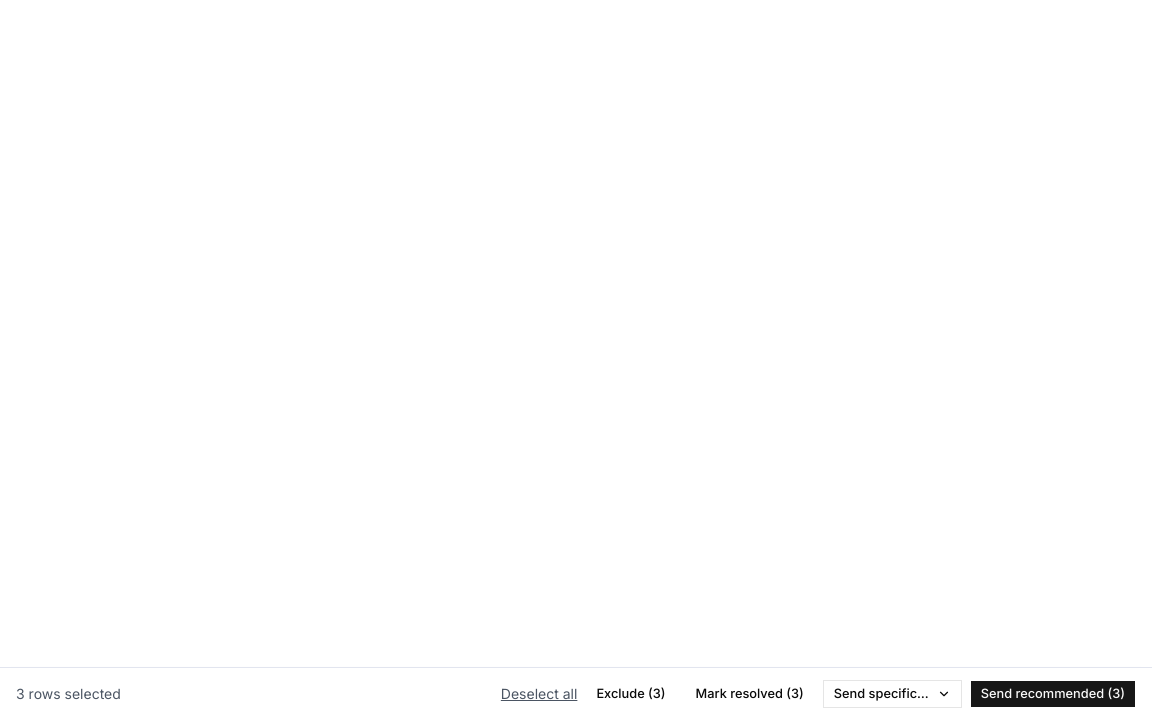
it: BulkActionToolbar › clicking Send recommended opens confirmation dialog with rollup + skipped
The width and height of the screenshot is (1152, 720).
Click the button with aria-label "Send recommended 3": (1053, 694) [970,680,1136,708]
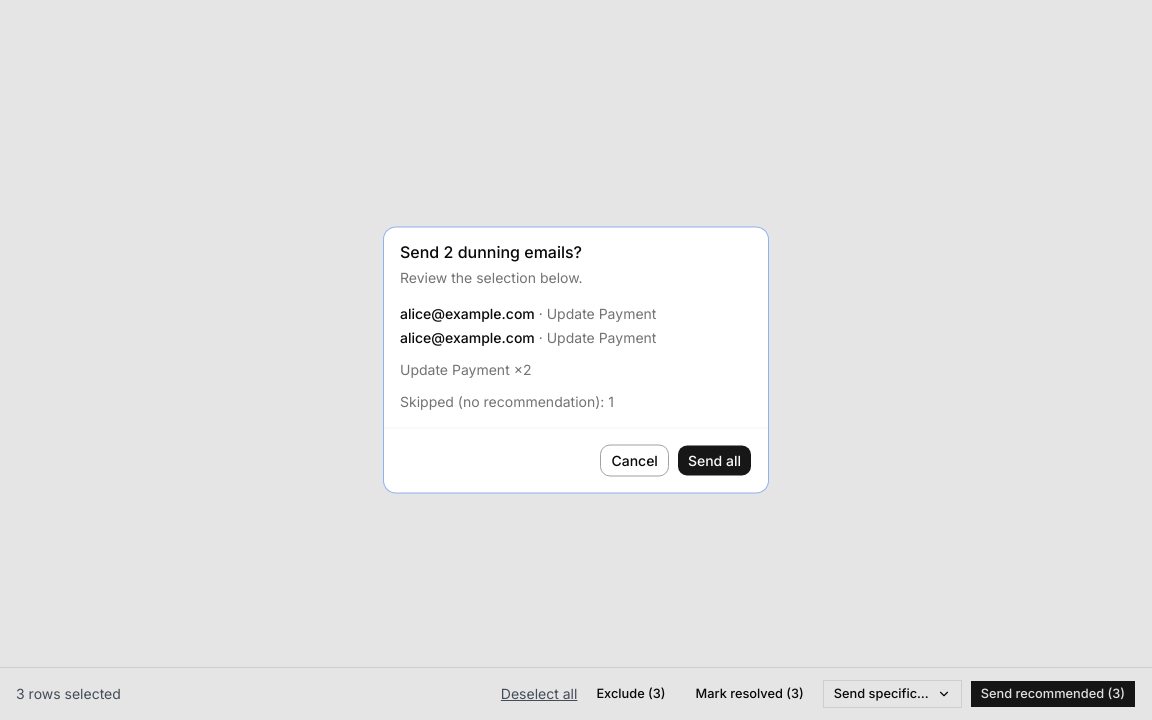
Now the heading "Send 2 dunning emails?" is shown, box [400,242,582,262]
Now the text "Update Payment ×2" is shown, box [400,360,532,378]
Now the text "Skipped (no recommendation): 1" is shown, box [400,392,614,410]
